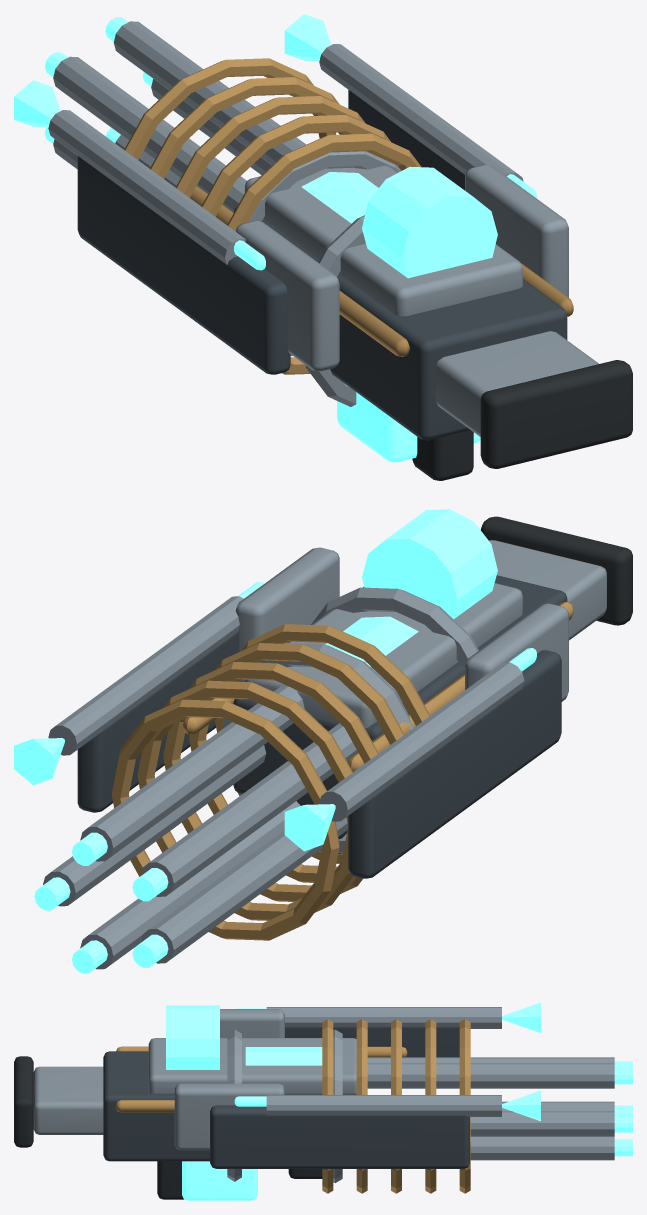
Rendered from storm-god.glb.
The picture shows the model from 3 angles, top to bottom: view 1: azimuth 30°, elevation 25°; view 2: azimuth 150°, elevation 25°; view 3: azimuth 270°, elevation 25°; orthographic projection. The views are drawn at different scales.
Visible parts, largest first — view 1: STORM-GOD / arc fin, STORM-GOD / receiver, STORM-GOD / butt pad, STORM-GOD / upper armor, STORM-GOD / god core, STORM-GOD / shoulder stock, STORM-GOD / wing brace, STORM-GOD / thunder rod, STORM-GOD / wing brace.001, STORM-GOD / thunder rod.001, STORM-GOD / barrel 3, STORM-GOD / barrel 2 (+16 smaller); view 2: STORM-GOD / arc fin, STORM-GOD / god core, STORM-GOD / induction coil.004, STORM-GOD / upper armor, STORM-GOD / barrel 2, STORM-GOD / thunder rod, STORM-GOD / barrel 3, STORM-GOD / thunder rod.001, STORM-GOD / barrel 4, STORM-GOD / induction coil.003, STORM-GOD / arc fin.001, STORM-GOD / wing brace.001 (+20 smaller); view 3: STORM-GOD / arc fin.001, STORM-GOD / receiver, STORM-GOD / upper armor, STORM-GOD / barrel 2, STORM-GOD / thunder rod.001, STORM-GOD / shoulder stock, STORM-GOD / thunder rod, STORM-GOD / wing brace.001, STORM-GOD / barrel 5, STORM-GOD / god core, STORM-GOD / barrel 1, STORM-GOD / arc fin (+23 smaller).
Part boxes in pixels (bbox=[...]): STORM-GOD / arc fin: bbox=[77, 156, 290, 374]; STORM-GOD / receiver: bbox=[233, 207, 567, 440]; STORM-GOD / butt pad: bbox=[480, 360, 632, 468]; STORM-GOD / upper armor: bbox=[244, 165, 522, 316]; STORM-GOD / god core: bbox=[362, 166, 497, 278]; STORM-GOD / shoulder stock: bbox=[435, 331, 598, 436]; STORM-GOD / wing brace: bbox=[235, 221, 339, 371]; STORM-GOD / thunder rod: bbox=[48, 110, 245, 264]; STORM-GOD / wing brace.001: bbox=[465, 165, 568, 297]; STORM-GOD / thunder rod.001: bbox=[319, 44, 523, 181]; STORM-GOD / barrel 3: bbox=[53, 56, 246, 212]; STORM-GOD / barrel 2: bbox=[113, 21, 306, 165]; STORM-GOD / arc fin: bbox=[348, 650, 561, 878]; STORM-GOD / god core: bbox=[362, 509, 497, 619]; STORM-GOD / induction coil.004: bbox=[112, 699, 339, 940]; STORM-GOD / upper armor: bbox=[244, 583, 522, 727]; STORM-GOD / barrel 2: bbox=[80, 686, 304, 861]; STORM-GOD / thunder rod: bbox=[319, 662, 524, 821]; STORM-GOD / barrel 3: bbox=[141, 723, 357, 896]; STORM-GOD / thunder rod.001: bbox=[48, 596, 243, 755]; STORM-GOD / barrel 4: bbox=[141, 817, 348, 963]; STORM-GOD / induction coil.003: bbox=[137, 680, 353, 920]; STORM-GOD / arc fin.001: bbox=[77, 632, 238, 812]; STORM-GOD / wing brace.001: bbox=[235, 547, 339, 651]; STORM-GOD / arc fin.001: bbox=[210, 1105, 469, 1168]; STORM-GOD / receiver: bbox=[103, 1051, 356, 1161]; STORM-GOD / upper armor: bbox=[148, 1038, 356, 1093]; STORM-GOD / barrel 2: bbox=[367, 1063, 614, 1088]; STORM-GOD / thunder rod.001: bbox=[266, 1095, 501, 1116]; STORM-GOD / shoulder stock: bbox=[33, 1066, 103, 1134]; STORM-GOD / thunder rod: bbox=[266, 1007, 501, 1028]; STORM-GOD / wing brace.001: bbox=[174, 1083, 284, 1150]; STORM-GOD / barrel 5: bbox=[470, 1136, 614, 1160]; STORM-GOD / god core: bbox=[166, 1005, 219, 1069]; STORM-GOD / barrel 1: bbox=[470, 1111, 614, 1136]; STORM-GOD / arc fin: bbox=[285, 1027, 459, 1057].
Size of the model in its own units: 0.9712 by 0.84 by 2.53.
